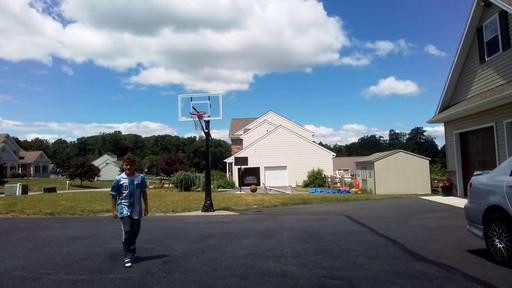ball: (250, 184, 258, 192)
human: (110, 153, 149, 269)
rim: (190, 111, 206, 130)
